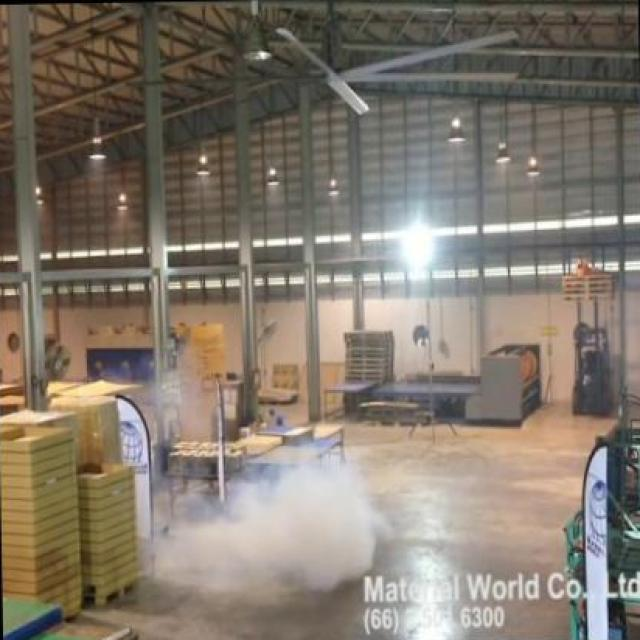fire: (170, 458, 388, 597)
